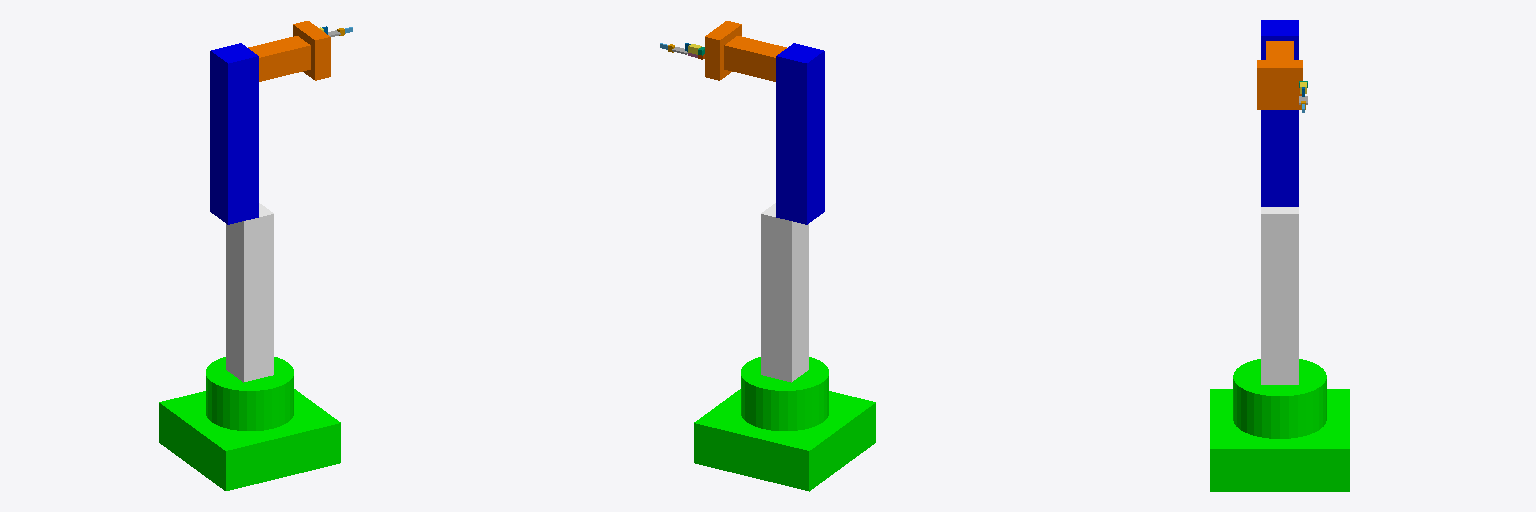
The robot description file, URDF, robot "robot":
<?xml version='1.0' encoding='utf-8'?>
<robot name="robot">
  <link name="base_link">
    <visual>
      <origin xyz="0 0 0.125" rpy="0 0 0" />
      <geometry>
        <box size="0.75 0.75 0.25" />
      </geometry>
      <material name="green" />
    </visual>
    <visual>
      <origin xyz="0 0 0.375" rpy="0 0 0" />
      <geometry>
        <cylinder length="0.25" radius="0.25" />
      </geometry>
      <material name="green">
        <color rgba="0 1 0 1" />
      </material>
    </visual>
    <collision>
      <geometry>
        <box size="0.75 0.75 0.5" />
      </geometry>
    </collision>
    <inertial>
      <mass value="0.5" />
      <inertia ixx="0.034" ixy="0.0" ixz="0.0" iyy="0.034" iyz="0.0" izz="0.034" />
    </inertial>
  </link>
  <link name="support_link">
    <visual>
      <origin xyz="0 0 0.5" rpy="0 0 0" />
      <geometry>
        <box size="0.2 0.2 1" />
      </geometry>
      <material name="white">
        <color rgba="1 1 1 1" />
      </material>
    </visual>
    <collision>
      <geometry>
        <box size="0.2 0.2 1" />
      </geometry>
    </collision>
    <inertial>
      <mass value="0.1" />
      <inertia ixx="0.01" ixy="0.0" ixz="0.0" iyy="0.01" iyz="0.0" izz="0.01" />
    </inertial>
  </link>
  <joint name="support_joint" type="continuous">
    <origin xyz="0 0 0.5" rpy="0 0 0" />
    <parent link="base_link" />
    <child link="support_link" />
    <axis xyz="0 0 1" />
  </joint>
  <link name="arm_link">
    <visual>
      <origin xyz="0 0 0.5" rpy="0 0 0" />
      <geometry>
        <box size="0.2 0.2 1" />
      </geometry>
      <material name="blue">
        <color rgba="0 0 1 1" />
      </material>
    </visual>
    <collision>
      <geometry>
        <box size="0.2 0.2 1" />
      </geometry>
    </collision>
    <inertial>
      <mass value="0.1" />
      <inertia ixx="0.01" ixy="0.0" ixz="0.0" iyy="0.01" iyz="0.0" izz="0.01" />
    </inertial>
  </link>
  <joint name="arm_joint" type="revolute">
    <origin xyz="-0.1 0 1" rpy="0 0 0" />
    <parent link="support_link" />
    <child link="arm_link" />
    <axis xyz="0 1 0" />
    <limit lower="-3.14" upper="3.14" effort="1.0" velocity="1.0" />
  </joint>
  <link name="wrist_link">
    <visual>
      <origin xyz="0 0 0.25" rpy="0 0 0" />
      <geometry>
        <box size="0.15 0.15 0.5" />
      </geometry>
      <material name="orange">
        <color rgba="1 0.5 0 1" />
      </material>
    </visual>
    <collision>
      <geometry>
        <box size="0.15 0.15 0.5" />
      </geometry>
    </collision>
    <inertial>
      <mass value="0.1" />
      <inertia ixx="0.01" ixy="0.0" ixz="0.0" iyy="0.01" iyz="0.0" izz="0.01" />
    </inertial>
  </link>
  <joint name="wrist_joint" type="fixed">
    <origin xyz="0 0 0.9" rpy="0 1.571 0" />
    <parent link="arm_link" />
    <child link="wrist_link" />
  </joint>
  <link name="palm_link">
    <visual>
      <origin xyz="0 0 0.05" rpy="0 0 0" />
      <geometry>
        <box size="0.25 0.25 0.1" />
      </geometry>
      <material name="orange" />
    </visual>
    <collision>
      <geometry>
        <box size="0.25 0.25 0.1" />
      </geometry>
    </collision>
    <inertial>
      <mass value="0.1" />
      <inertia ixx="0.01" ixy="0.0" ixz="0.0" iyy="0.01" iyz="0.0" izz="0.01" />
    </inertial>
  </link>
  <joint name="palm_joint" type="fixed">
    <origin xyz="0 0 0.45" rpy="0 0 0" />
    <parent link="wrist_link" />
    <child link="palm_link" />
  </joint>
  <link name="finger_link_0_0">
    <visual>
      <origin xyz="0 0 0.0165" rpy="0 0 0" />
      <geometry>
        <box size="0.027 0.042 0.033" />
      </geometry>
    </visual>
    <collision>
      <geometry>
        <box size="0.027 0.042 0.033" />
      </geometry>
    </collision>
    <inertial>
      <mass value="0.011" />
      <inertia ixx="0.0" iyy="0.0" izz="0.0" ixy="0" ixz="0" iyz="0" />
    </inertial>
  </link>
  <joint name="finger_joint_palm_link_to_finger_link_0_0" type="revolute">
    <origin xyz="-0.004 0.125 0.1" rpy="0 0 0" />
    <parent link="palm_link" />
    <child link="finger_link_0_0" />
    <axis xyz="-1.0 0.0 0.0" />
    <limit lower="-3.142" upper="3.142" effort="10" velocity="10" />
  </joint>
  <link name="finger_link_0_1">
    <visual>
      <origin xyz="0 0 0.035" rpy="0 0 0" />
      <geometry>
        <box size="0.033 0.02 0.07" />
      </geometry>
    </visual>
    <collision>
      <geometry>
        <box size="0.033 0.02 0.07" />
      </geometry>
    </collision>
    <inertial>
      <mass value="0.014" />
      <inertia ixx="0.0" iyy="0.0" izz="0.0" ixy="0" ixz="0" iyz="0" />
    </inertial>
  </link>
  <joint name="finger_joint_finger_link_0_0_to_finger_link_0_1" type="revolute">
    <origin xyz="0.0 0.0 0.033" rpy="0 0 0" />
    <parent link="finger_link_0_0" />
    <child link="finger_link_0_1" />
    <axis xyz="0.0 1.0 0.0" />
    <limit lower="-3.142" upper="3.142" effort="10" velocity="10" />
  </joint>
  <link name="finger_link_0_2">
    <visual>
      <origin xyz="0 0 0.0465" rpy="0 0 0" />
      <geometry>
        <box size="0.011 0.046 0.093" />
      </geometry>
    </visual>
    <collision>
      <geometry>
        <box size="0.011 0.046 0.093" />
      </geometry>
    </collision>
    <inertial>
      <mass value="0.014" />
      <inertia ixx="0.0" iyy="0.0" izz="0.0" ixy="0" ixz="0" iyz="0" />
    </inertial>
  </link>
  <joint name="finger_joint_finger_link_0_1_to_finger_link_0_2" type="revolute">
    <origin xyz="0.0 0.0 0.07" rpy="0 0 0" />
    <parent link="finger_link_0_1" />
    <child link="finger_link_0_2" />
    <axis xyz="0.0 1.0 0.0" />
    <limit lower="-3.142" upper="3.142" effort="10" velocity="10" />
  </joint>
  <link name="finger_link_0_3">
    <visual>
      <origin xyz="0 0 0.0165" rpy="0 0 0" />
      <geometry>
        <box size="0.037 0.026 0.033" />
      </geometry>
    </visual>
    <collision>
      <geometry>
        <box size="0.037 0.026 0.033" />
      </geometry>
    </collision>
    <inertial>
      <mass value="0.01" />
      <inertia ixx="0.0" iyy="0.0" izz="0.0" ixy="0" ixz="0" iyz="0" />
    </inertial>
  </link>
  <joint name="finger_joint_finger_link_0_2_to_finger_link_0_3" type="revolute">
    <origin xyz="0.0 0.0 0.093" rpy="0 0 0" />
    <parent link="finger_link_0_2" />
    <child link="finger_link_0_3" />
    <axis xyz="0.0 1.0 0.0" />
    <limit lower="-3.142" upper="3.142" effort="10" velocity="10" />
  </joint>
  <link name="finger_link_0_4">
    <visual>
      <origin xyz="0 0 0.029" rpy="0 0 0" />
      <geometry>
        <box size="0.026 0.012 0.058" />
      </geometry>
    </visual>
    <collision>
      <geometry>
        <box size="0.026 0.012 0.058" />
      </geometry>
    </collision>
    <inertial>
      <mass value="0.005" />
      <inertia ixx="0.0" iyy="0.0" izz="0.0" ixy="0" ixz="0" iyz="0" />
    </inertial>
  </link>
  <joint name="finger_joint_finger_link_0_3_to_finger_link_0_4" type="revolute">
    <origin xyz="0.0 0.0 0.033" rpy="0 0 0" />
    <parent link="finger_link_0_3" />
    <child link="finger_link_0_4" />
    <axis xyz="1.0 1.0 0.0" />
    <limit lower="-3.142" upper="3.142" effort="10" velocity="10" />
  </joint>
  <link name="finger_link_1_0">
    <visual>
      <origin xyz="0 0 0.015" rpy="0 0 0" />
      <geometry>
        <box size="0.031 0.047 0.03" />
      </geometry>
    </visual>
    <collision>
      <geometry>
        <box size="0.031 0.047 0.03" />
      </geometry>
    </collision>
    <inertial>
      <mass value="0.013" />
      <inertia ixx="0.0" iyy="0.0" izz="0.0" ixy="0" ixz="0" iyz="0" />
    </inertial>
  </link>
  <joint name="finger_joint_palm_link_to_finger_link_1_0" type="revolute">
    <origin xyz="-0.033 0.125 0.1" rpy="0 0 0" />
    <parent link="palm_link" />
    <child link="finger_link_1_0" />
    <axis xyz="-1.0 0.0 0.0" />
    <limit lower="-3.142" upper="3.142" effort="10" velocity="10" />
  </joint>
  <link name="finger_link_1_1">
    <visual>
      <origin xyz="0 0 0.0315" rpy="0 0 0" />
      <geometry>
        <box size="0.04 0.04 0.063" />
      </geometry>
    </visual>
    <collision>
      <geometry>
        <box size="0.04 0.04 0.063" />
      </geometry>
    </collision>
    <inertial>
      <mass value="0.03" />
      <inertia ixx="0.0" iyy="0.0" izz="0.0" ixy="0" ixz="0" iyz="0" />
    </inertial>
  </link>
  <joint name="finger_joint_finger_link_1_0_to_finger_link_1_1" type="revolute">
    <origin xyz="0.0 0.0 0.03" rpy="0 0 0" />
    <parent link="finger_link_1_0" />
    <child link="finger_link_1_1" />
    <axis xyz="0.0 1.0 0.0" />
    <limit lower="-3.142" upper="3.142" effort="10" velocity="10" />
  </joint>
  <link name="finger_link_1_2">
    <visual>
      <origin xyz="0 0 0.016" rpy="0 0 0" />
      <geometry>
        <box size="0.049 0.011 0.032" />
      </geometry>
    </visual>
    <collision>
      <geometry>
        <box size="0.049 0.011 0.032" />
      </geometry>
    </collision>
    <inertial>
      <mass value="0.005" />
      <inertia ixx="0.0" iyy="0.0" izz="0.0" ixy="0" ixz="0" iyz="0" />
    </inertial>
  </link>
  <joint name="finger_joint_finger_link_1_1_to_finger_link_1_2" type="revolute">
    <origin xyz="0.0 0.0 0.063" rpy="0 0 0" />
    <parent link="finger_link_1_1" />
    <child link="finger_link_1_2" />
    <axis xyz="0.0 1.0 0.0" />
    <limit lower="-3.142" upper="3.142" effort="10" velocity="10" />
  </joint>
</robot>

--- What the picture shows (computed from the rendered views, not written in the file) ---
Views: 3 orthographic renders of the robot side by side, from view 1: azimuth 30°, elevation 25°; view 2: azimuth 150°, elevation 25°; view 3: azimuth 270°, elevation 25°.
Robot: robot — 13 links, 12 joints (9 revolute, 1 continuous, 2 fixed); root link base_link; default pose: every joint at zero.
Links seen in each view (by area): view 1: base_link, arm_link, support_link, wrist_link, palm_link; view 2: base_link, arm_link, support_link, wrist_link, palm_link; view 3: base_link, support_link, arm_link, palm_link, wrist_link.
Link boxes in pixels (<box>): base_link: <box>159,357,340,490</box>; arm_link: <box>210,43,258,224</box>; support_link: <box>226,203,273,382</box>; wrist_link: <box>248,36,310,81</box>; palm_link: <box>293,21,330,80</box>; base_link: <box>694,357,875,491</box>; arm_link: <box>776,43,824,224</box>; support_link: <box>761,203,808,382</box>; wrist_link: <box>724,36,786,81</box>; palm_link: <box>705,21,741,80</box>; base_link: <box>1210,359,1349,491</box>; support_link: <box>1261,207,1298,384</box>; arm_link: <box>1261,20,1298,206</box>; palm_link: <box>1257,60,1302,109</box>; wrist_link: <box>1266,41,1293,59</box>.
Size in the robot's own frame: 1.11 by 0.75 by 2.52 metres.
Geometry: primitives only (box / cylinder / sphere), no mesh files.